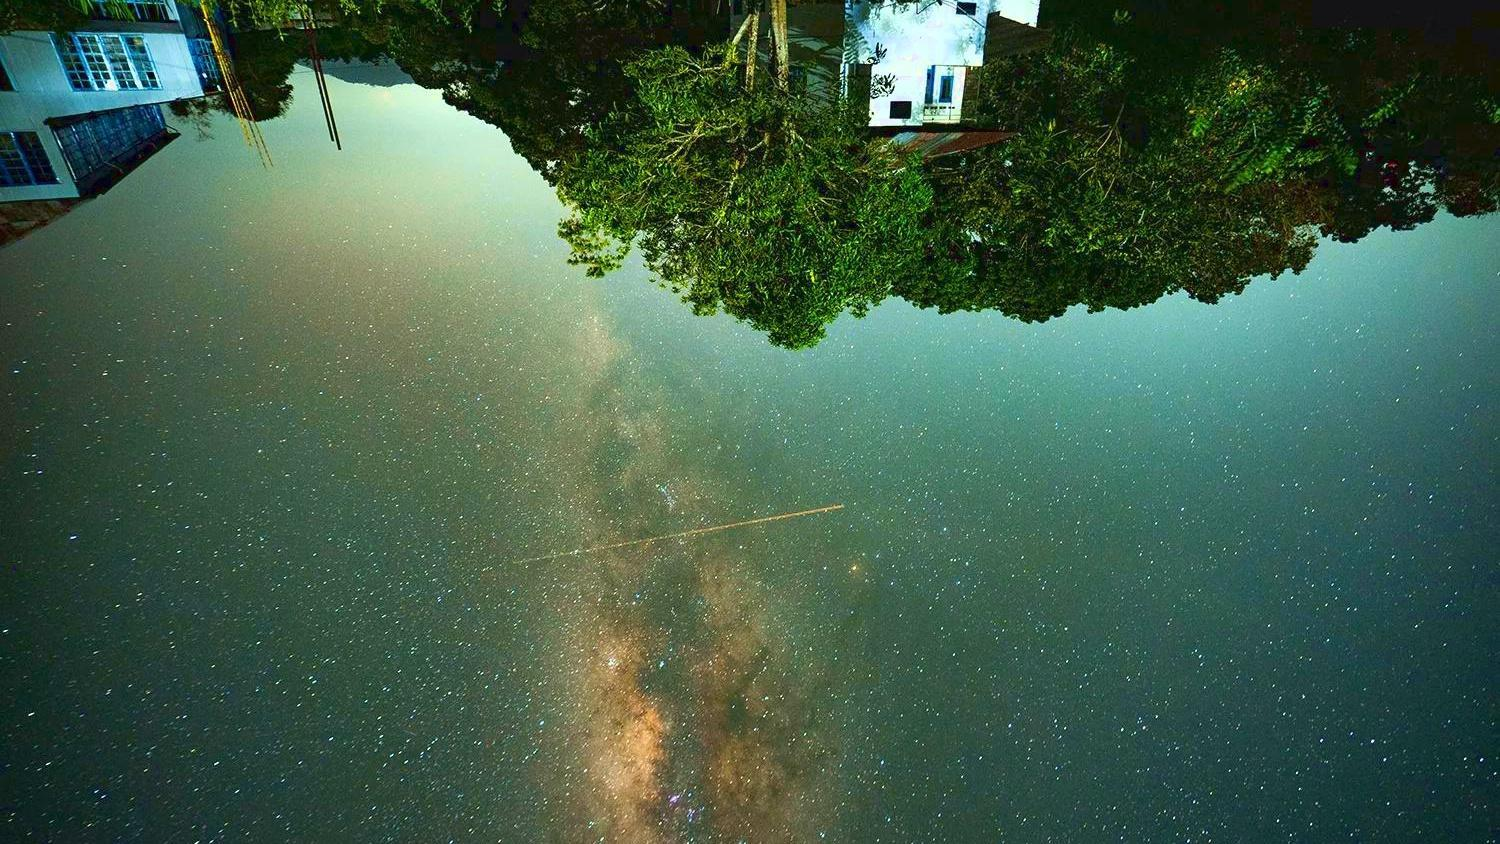meteorite: (657, 499, 863, 546)
